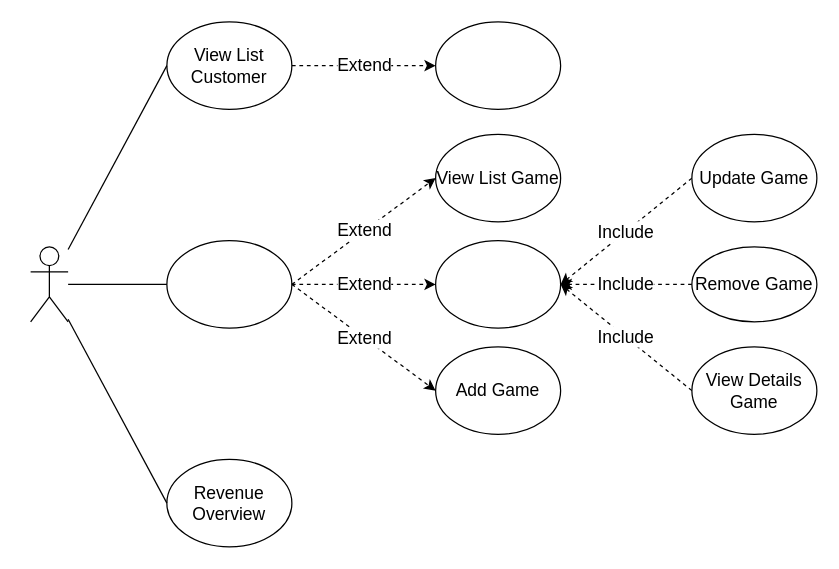
Image size: 839x569. Some labels were removed from this diagram. Each missing label, with the box of its shape:
Admin: (29, 246, 68, 322)
Manage Games: (166, 239, 292, 328)
Search Customer: (434, 21, 561, 109)
Search Game: (434, 239, 561, 328)
